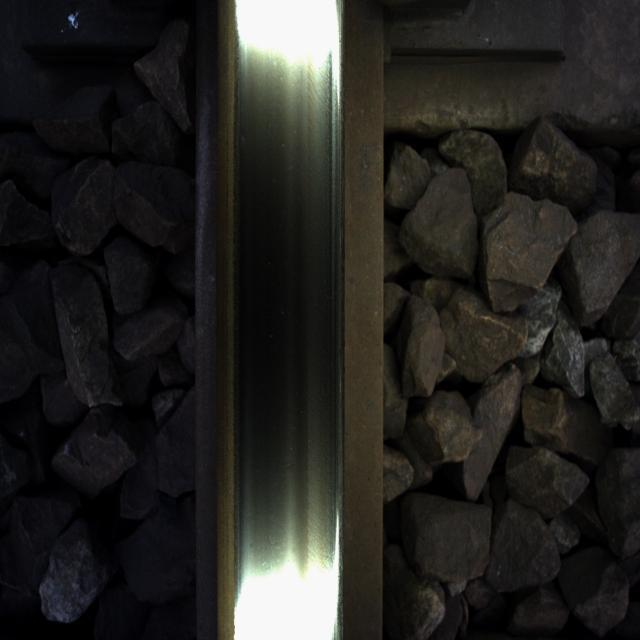break: (236, 55, 330, 573)
